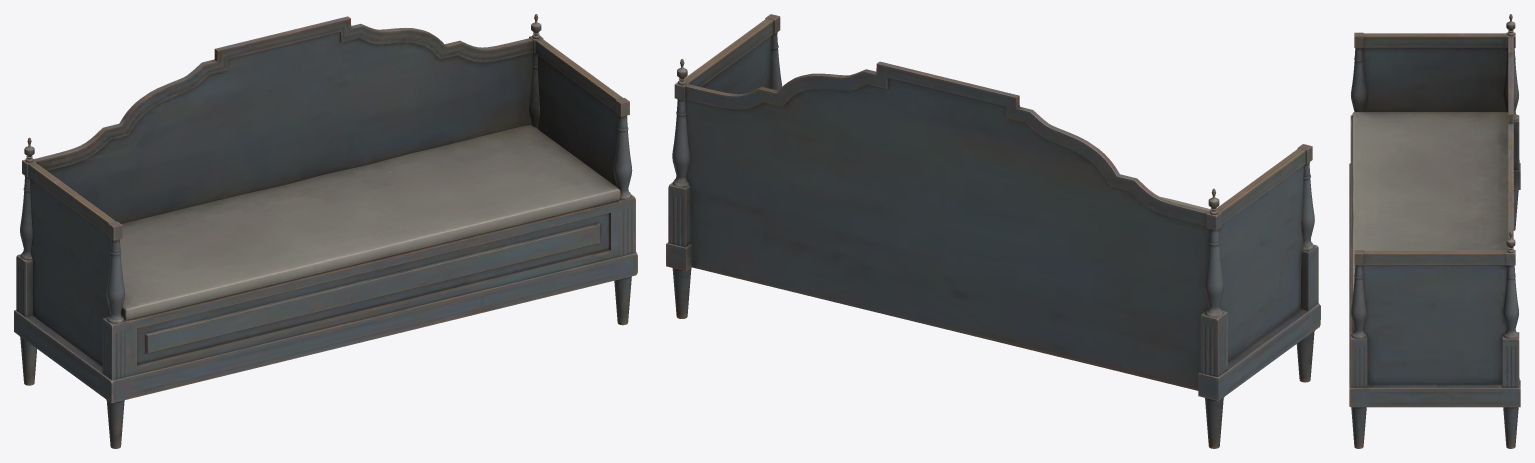
File: m_painted_wooden_sofa.glb
3 views of the same model, side by side, from view 1: azimuth 30°, elevation 25°; view 2: azimuth 150°, elevation 25°; view 3: azimuth 270°, elevation 25° (orthographic). The views are drawn at different scales.
Visible parts, largest first — view 1: painted_wooden_sofa; view 2: painted_wooden_sofa; view 3: painted_wooden_sofa.
Boxes of the visible parts, bbox=[...] form: painted_wooden_sofa: bbox=[14, 14, 637, 448]; painted_wooden_sofa: bbox=[666, 14, 1320, 448]; painted_wooden_sofa: bbox=[1349, 14, 1520, 448].
Bounding box in the file's own units: 2.45 × 1.28 × 0.7872.
Materials: 1 (1 with a texture image).
